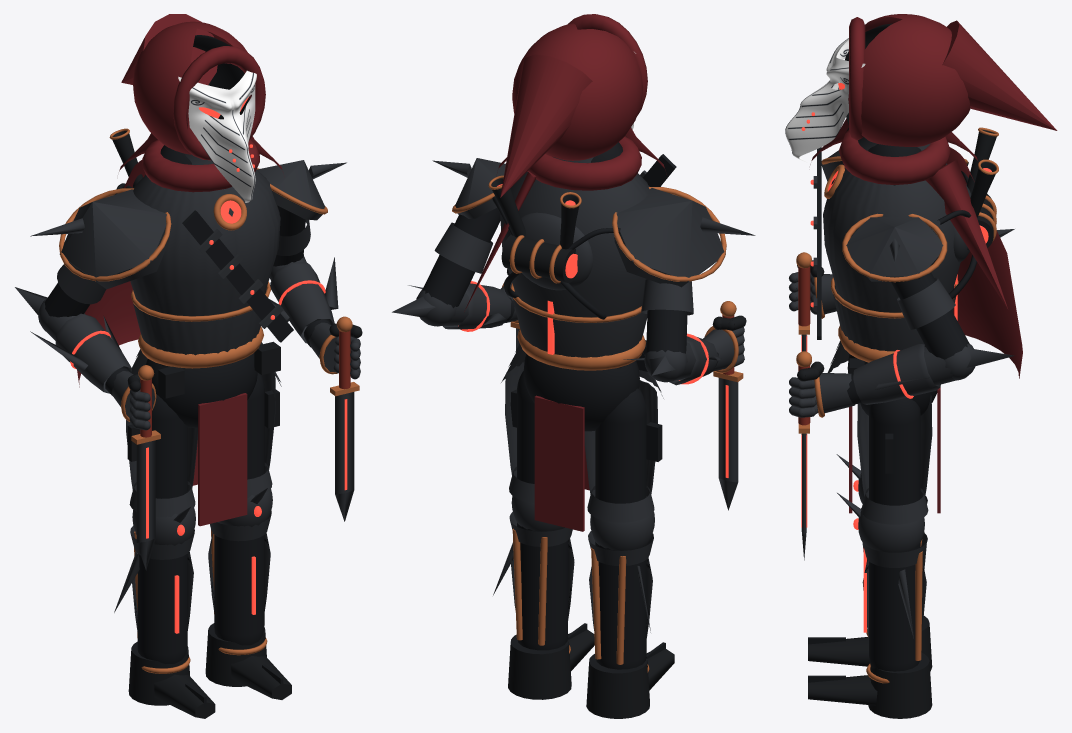
File: techno_plate_rogue.glb
3 renders of one model, left to right at view 1: azimuth 30°, elevation 25°; view 2: azimuth 150°, elevation 25°; view 3: azimuth 270°, elevation 25°, orthographic. The views are drawn at different scales.
Visible parts, largest first — view 1: leg_undersuit (×2), breastplate, shoulder_facets (×2), cloth_front, bracer (×2), hood, raven_mask, plackart, dagger_blade (×2), pelvis_undersuit, heel (×2), hood_edge (+23 smaller); view 2: leg_undersuit (×2), hood, breastplate, shoulder_facets (×2), hood_point, heel (×2), cloth_back, pelvis_undersuit, upper_arm_undersuit (×2), plackart, scarf, calf_piston (×4) (+21 smaller); view 3: hood, leg_undersuit, breastplate, half_cape, hood_point, shoulder_facets, raven_mask, scarf, bracer, soft_boot (×2), scarf_tail, heel (+24 smaller).
Part boxes in pixels (box(x1,y1,x2,y2)): leg_undersuit (×2): box(137, 373, 264, 664); breastplate: box(130, 169, 280, 316); shoulder_facets (×2): box(60, 160, 324, 280); cloth_front: box(198, 393, 247, 526); bracer (×2): box(55, 262, 334, 393); hood: box(133, 21, 259, 154); raven_mask: box(178, 70, 256, 202); plackart: box(133, 288, 266, 355); dagger_blade (×2): box(136, 392, 354, 542); pelvis_undersuit: box(145, 353, 257, 427); heel (×2): box(128, 623, 266, 705); hood_edge: box(173, 46, 265, 160); leg_undersuit (×2): box(517, 371, 646, 669); hood: box(512, 23, 643, 160); breastplate: box(500, 171, 649, 317); shoulder_facets (×2): box(455, 158, 725, 281); hood_point: box(500, 54, 592, 197); heel (×2): box(508, 634, 649, 718); cloth_back: box(534, 395, 584, 531); pelvis_undersuit: box(523, 354, 639, 431); upper_arm_undersuit (×2): box(422, 208, 687, 353); plackart: box(512, 298, 647, 357); scarf: box(527, 136, 641, 190); calf_piston (×4): box(512, 528, 626, 664); hood: box(848, 14, 970, 146); leg_undersuit: box(869, 398, 920, 671); breastplate: box(823, 163, 960, 312); half_cape: box(946, 147, 1022, 378); hood_point: box(942, 20, 1057, 130); shoulder_facets: box(846, 217, 943, 276); raven_mask: box(785, 38, 865, 162); scarf: box(839, 131, 950, 184); bracer: box(853, 344, 940, 404); soft_boot (×2): box(808, 637, 877, 705); scarf_tail: box(926, 160, 1007, 308); heel: box(868, 652, 932, 718).
Bounding box in the file's own units: 1.01 × 1.96 × 0.7224.
Materials: 9 (2 with a texture image).
